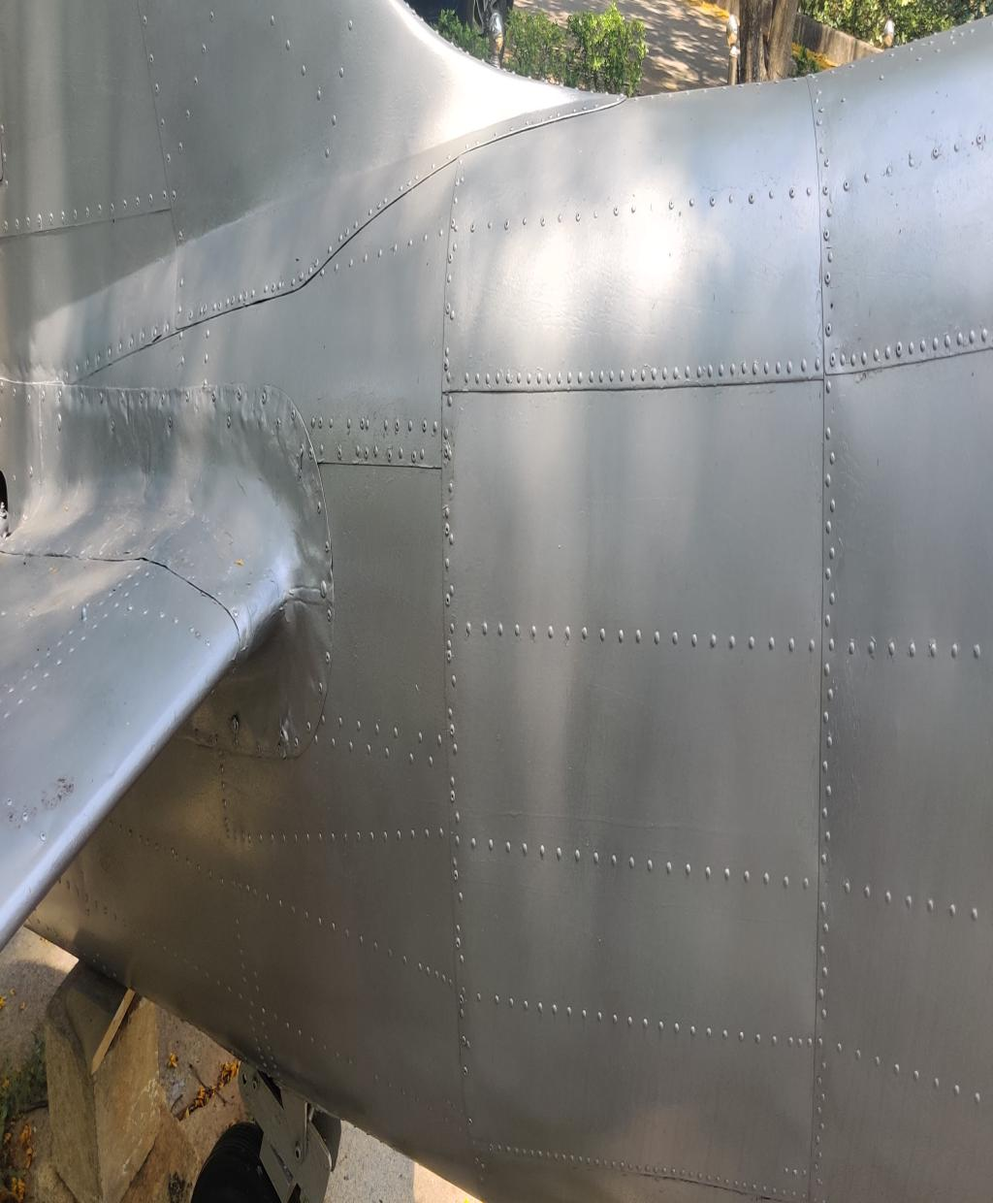dent: (117, 354, 178, 502), (225, 367, 283, 506), (290, 486, 339, 618)
